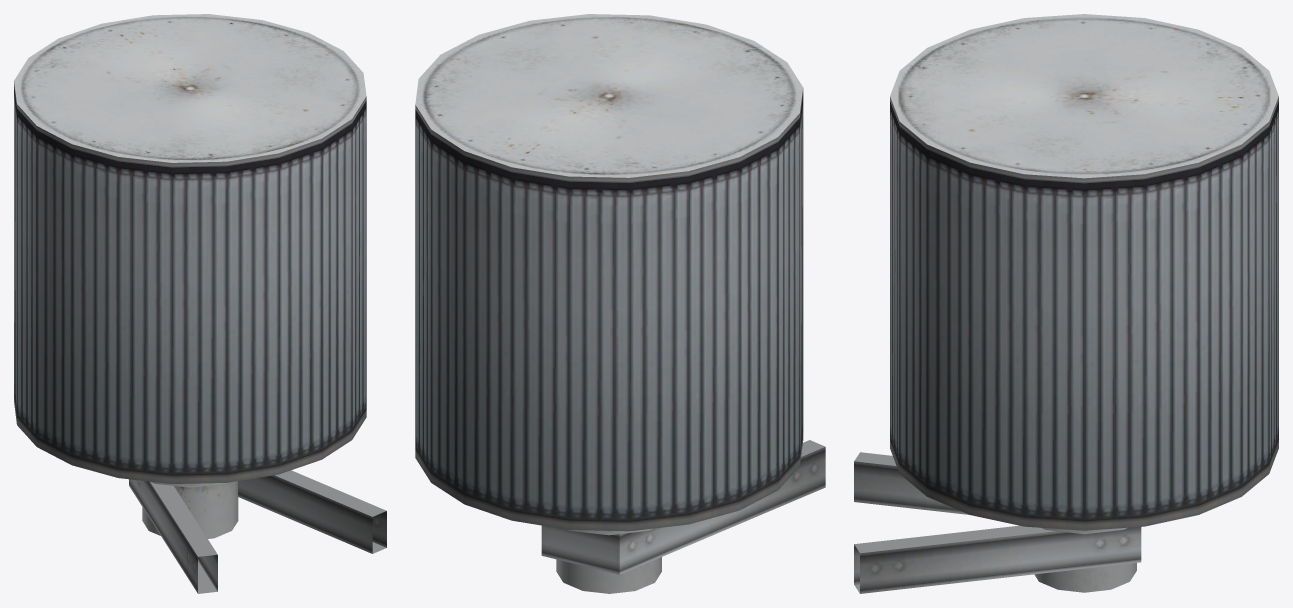
The model's file is jw_rotunda_1b.gltf.
3 views of the same model, side by side, from view 1: azimuth 30°, elevation 25°; view 2: azimuth 150°, elevation 25°; view 3: azimuth 270°, elevation 25° (orthographic). The views are drawn at different scales.
Visible parts, largest first — view 1: jw_rotunda_1b; view 2: jw_rotunda_1b; view 3: jw_rotunda_1b.
Part boxes in pixels (x1,y1,x2,y2): jw_rotunda_1b: [14, 14, 386, 593]; jw_rotunda_1b: [415, 14, 825, 593]; jw_rotunda_1b: [854, 14, 1278, 593].
Bounding box in the file's own units: 2.6 × 3.5 × 2.84.
